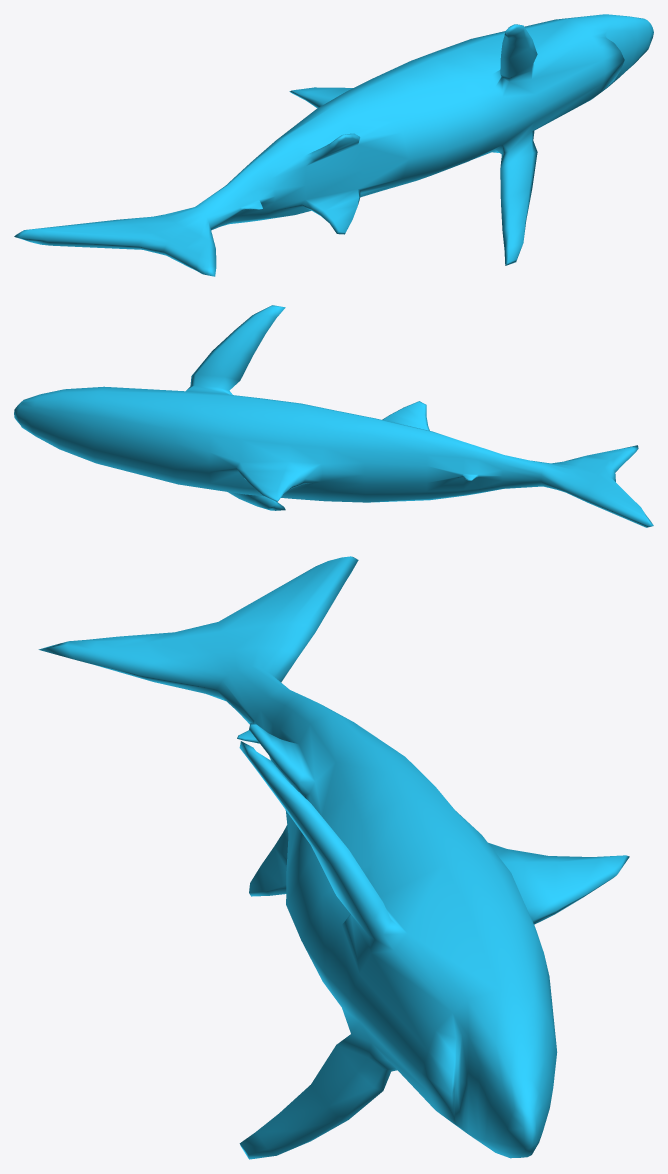
The model's file is ToyObject_024.fbx.
3 views of the same model, one above another, from view 1: azimuth 30°, elevation 25°; view 2: azimuth 150°, elevation 25°; view 3: azimuth 270°, elevation 25° (orthographic). The views are drawn at different scales.
Visible parts, largest first — view 1: 1.040; view 2: 1.040; view 3: 1.040.
Part boxes in pixels (<box>): 1.040: <box>14,14,653,276</box>; 1.040: <box>14,305,653,527</box>; 1.040: <box>38,556,629,1159</box>.
Bounding box in the file's own units: 0.4546 × 0.1493 × 0.1956.
